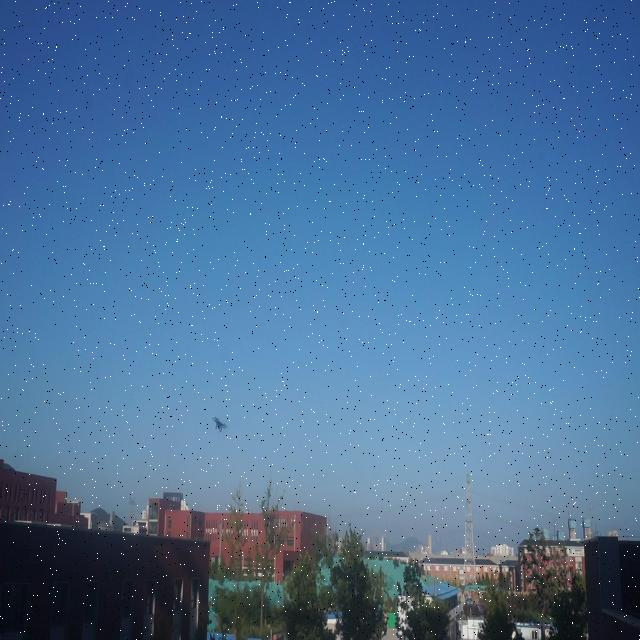UAV: (212, 417, 228, 432)
